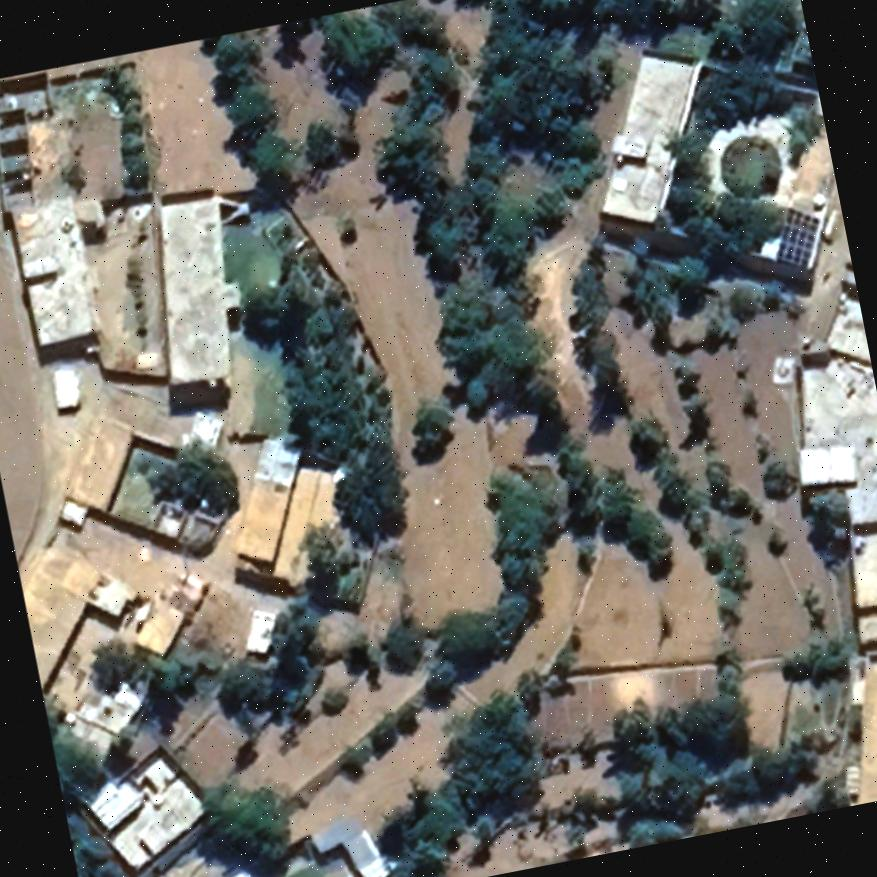Solarpanel: (762, 199, 830, 273)
